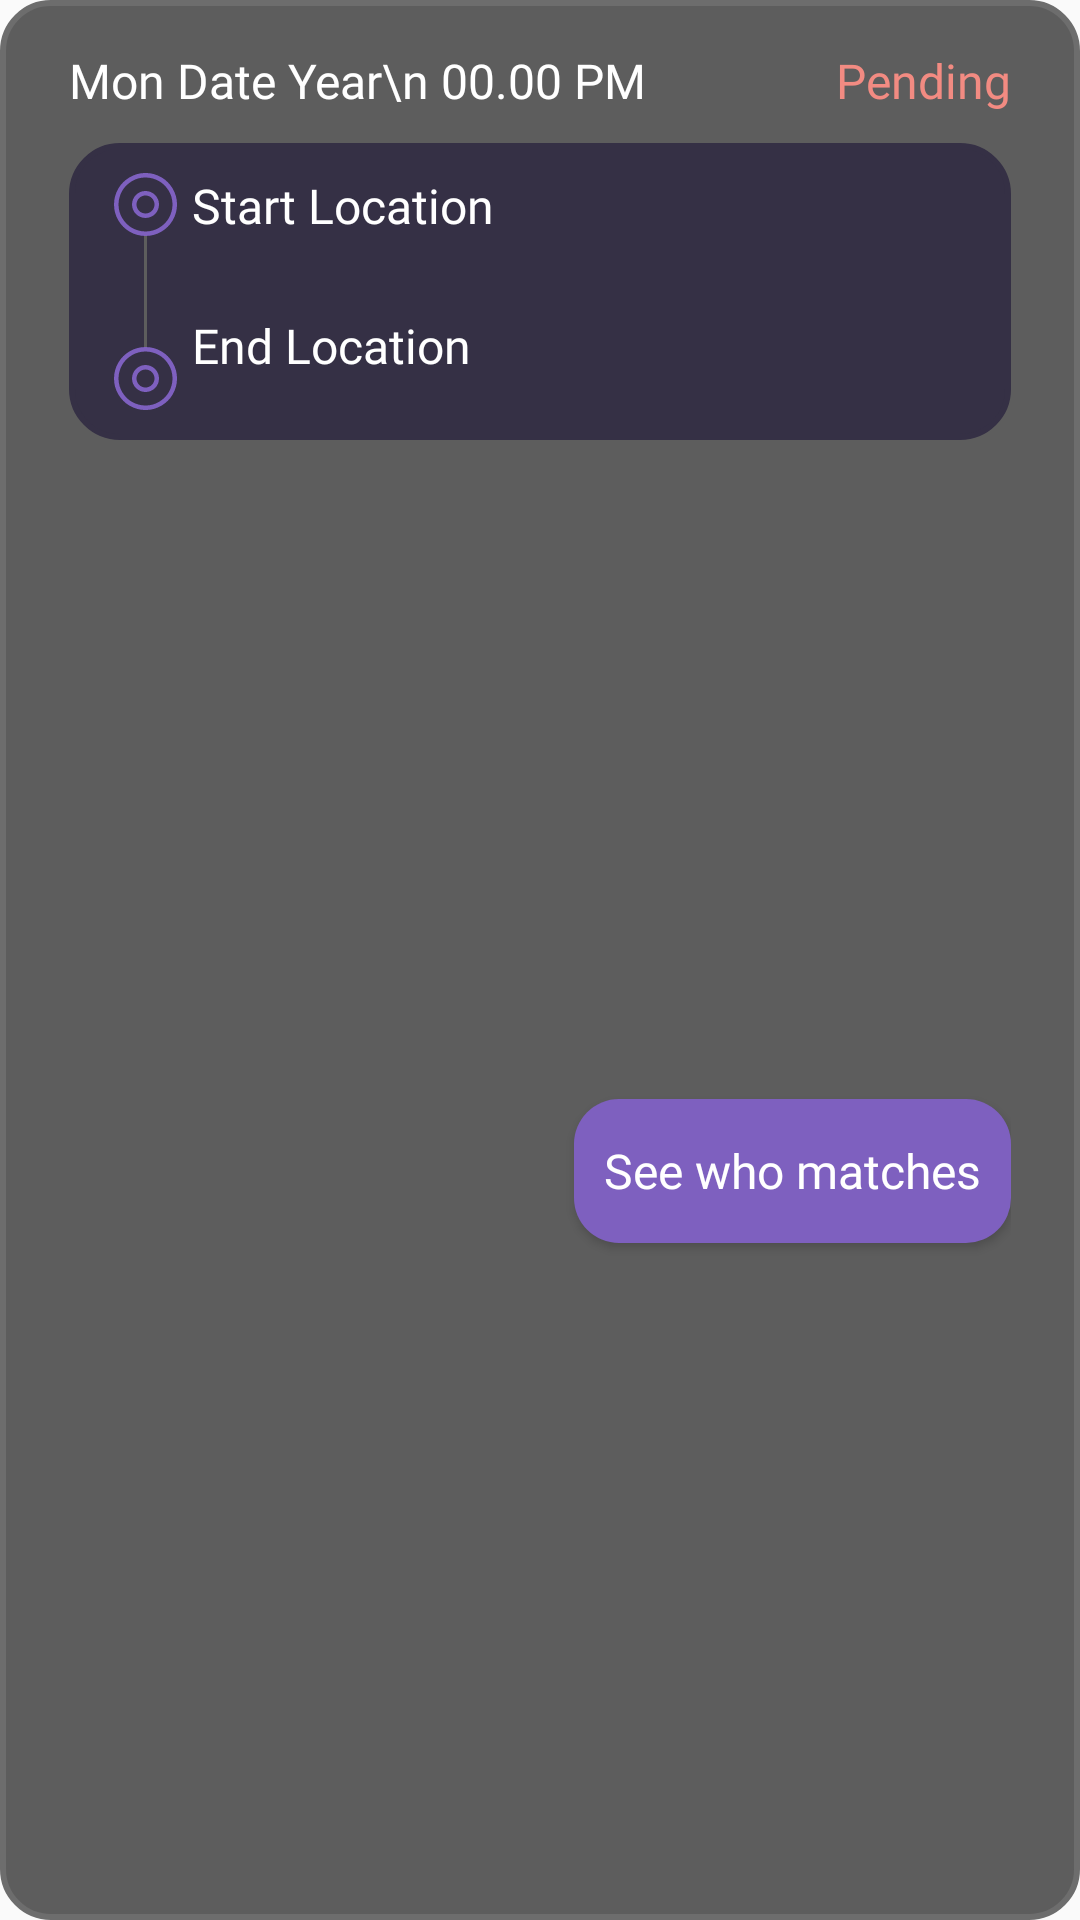

Named icons in this screenshot (1080px×1920px) and their bounding boxes, (x1, y1, x2, y2):
route: (114, 173, 177, 410)
